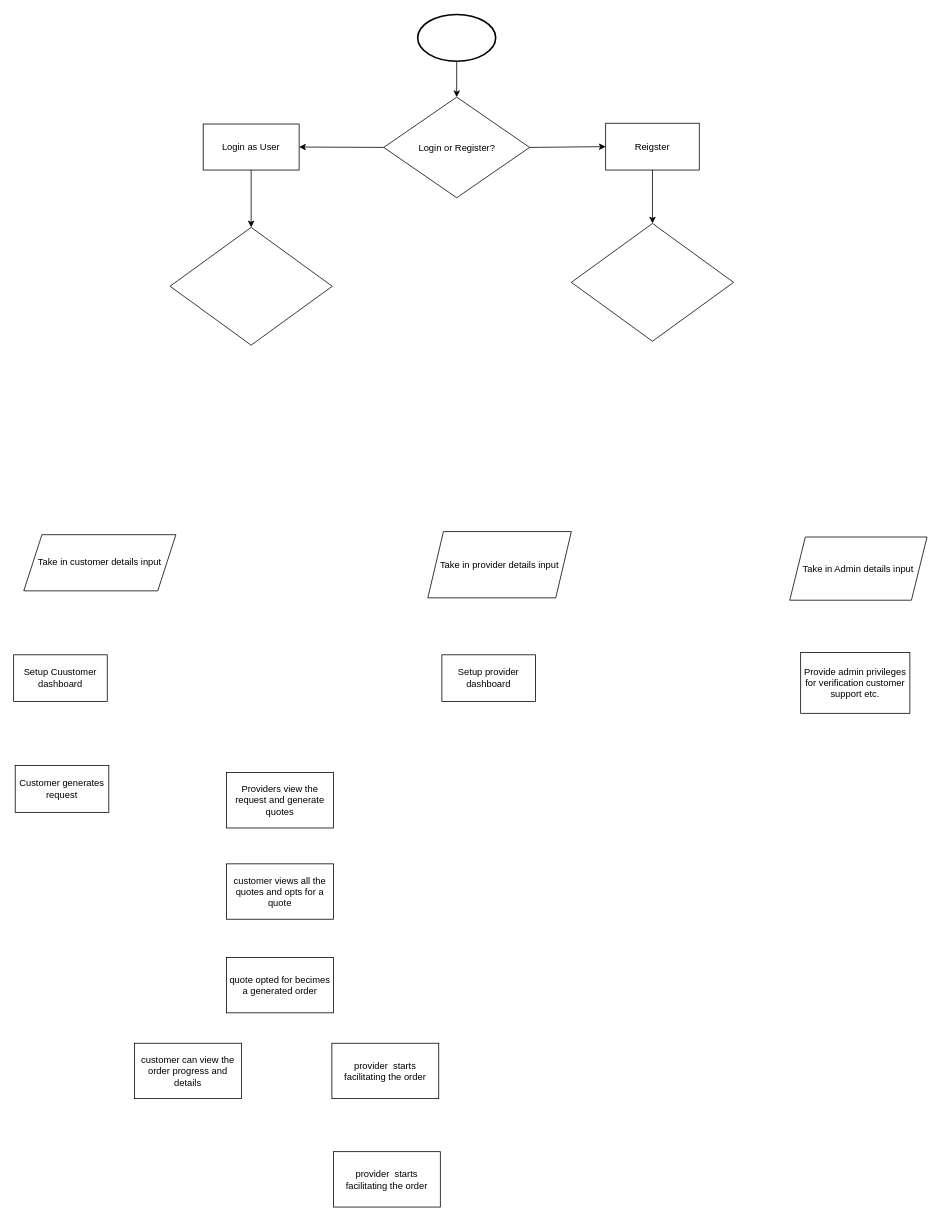
Some shapes in this 941 by 1221 pixel diagram are drawn without their labels. The shapes that lost their labels are listed below. From the top down, each one's centre as x and y in pixels, then its label:
At pixel 456 37: "Start".
At pixel 250 286: "Check whether user is Admin, Customer or Provider.".
At pixel 652 282: "Register as Customer or Provider.".
